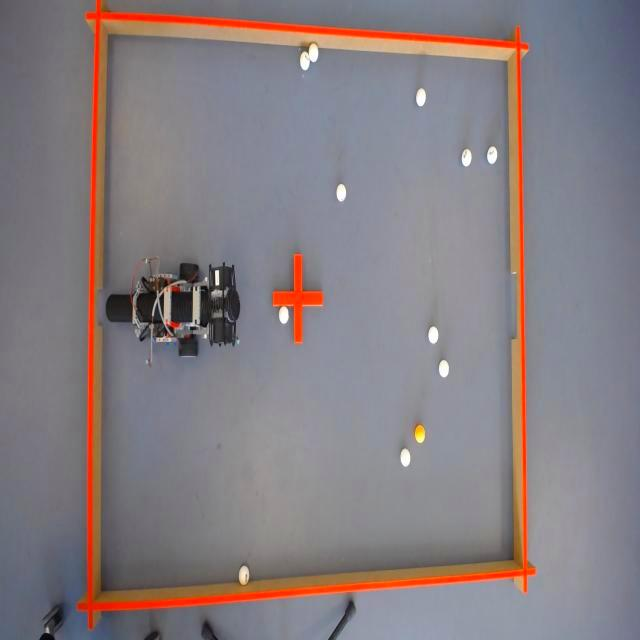orange-golf-balls: (415, 424, 426, 443)
robot: (105, 263, 240, 355)
white-golf-balls: (238, 565, 250, 586), (309, 40, 319, 61), (416, 86, 427, 105), (462, 147, 473, 166), (336, 183, 347, 201), (439, 359, 450, 377), (300, 49, 310, 68), (279, 305, 289, 323), (488, 145, 498, 163), (429, 326, 439, 343), (401, 449, 411, 466)
